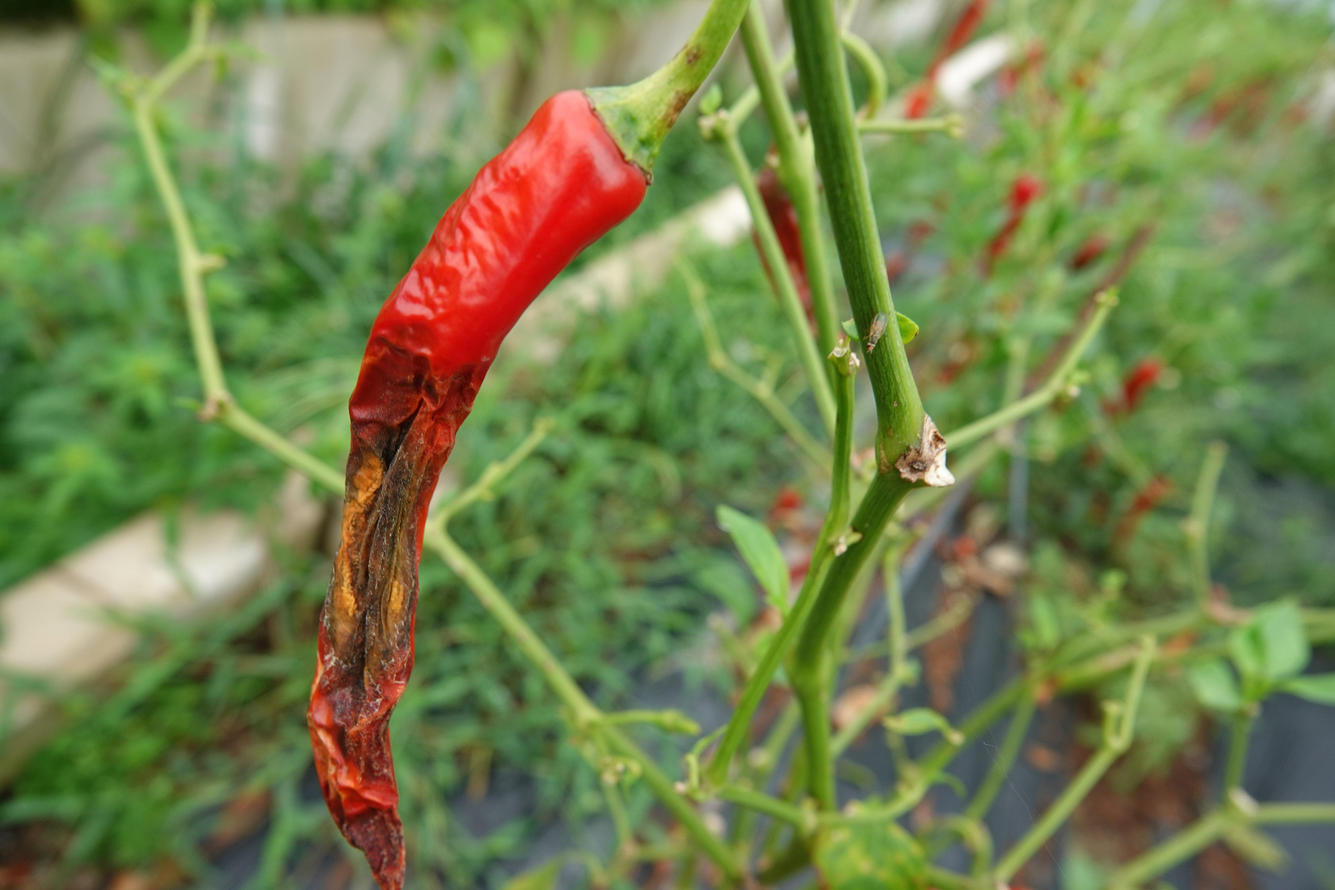Busuk Buah Antraknosa: (309, 82, 680, 885)
